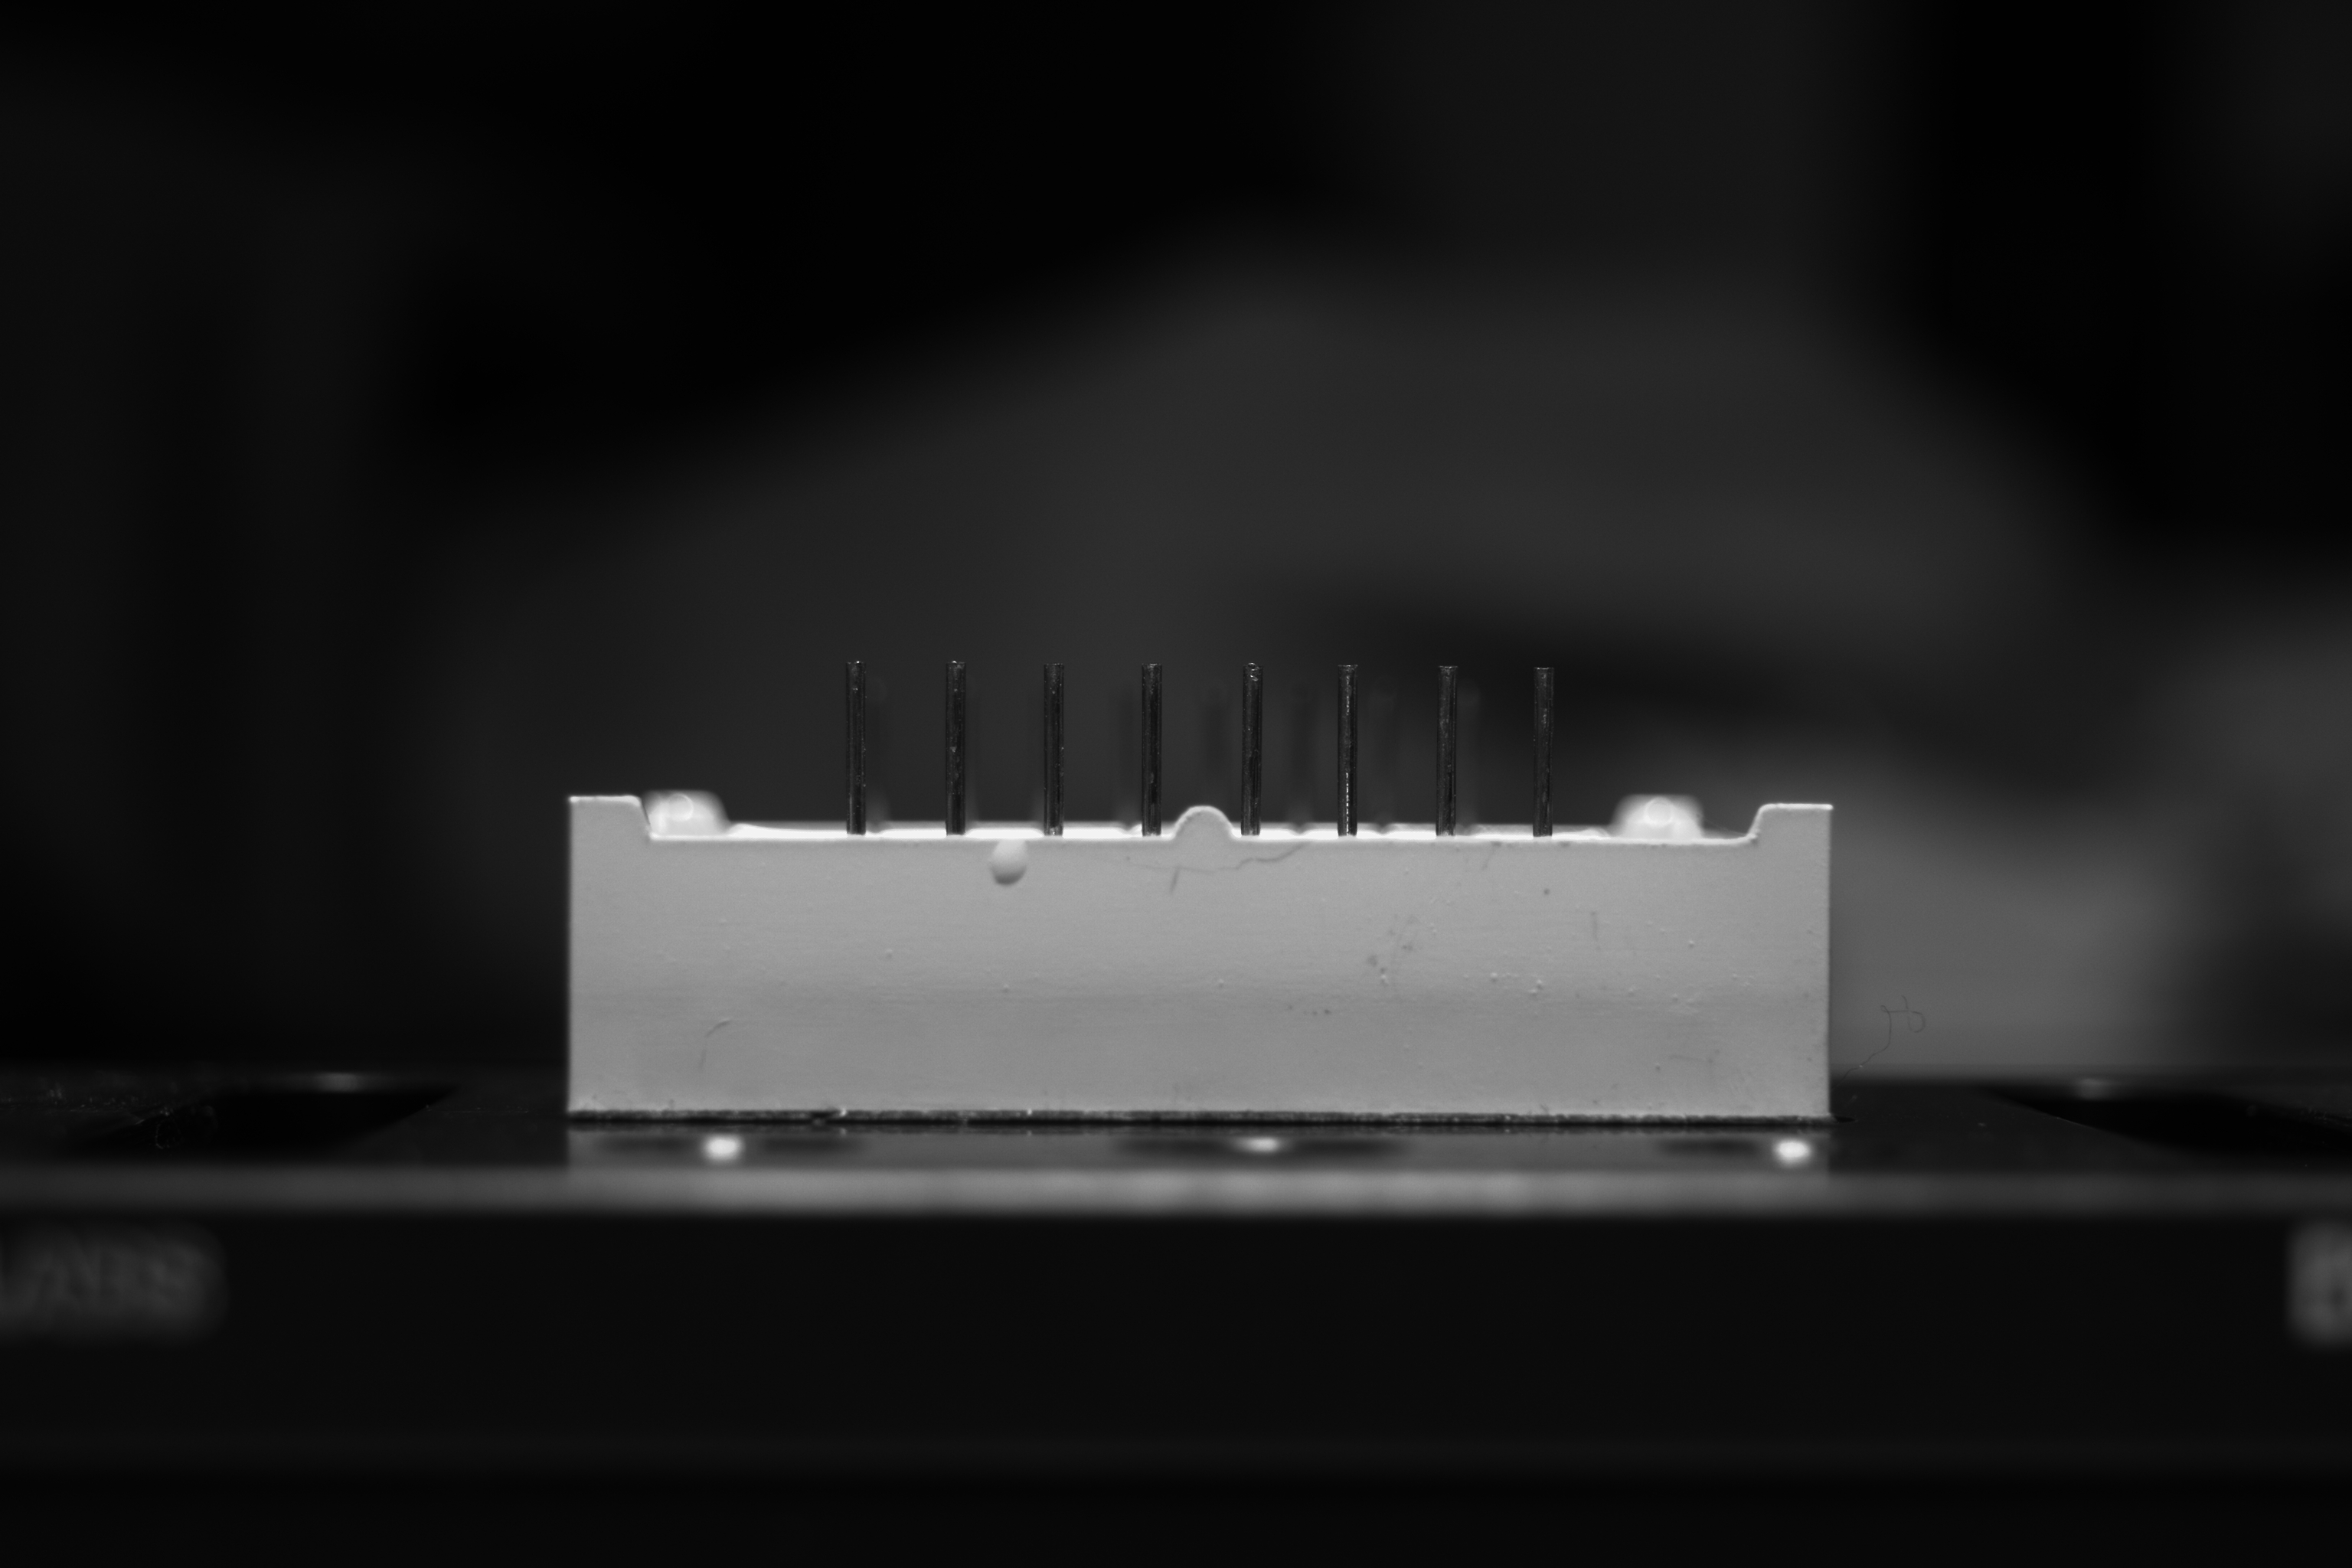Component: (563, 658, 1839, 1127)
